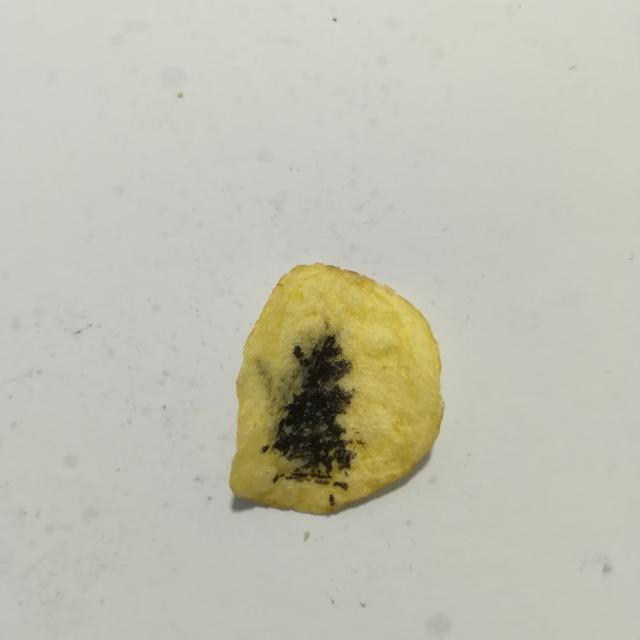chip: (229, 263, 444, 513)
damaged: (272, 334, 353, 485), (333, 481, 348, 490), (273, 473, 285, 484), (329, 494, 335, 506), (356, 439, 365, 445), (353, 446, 356, 450), (350, 441, 353, 444)
semi-damaged: (255, 321, 341, 458)
